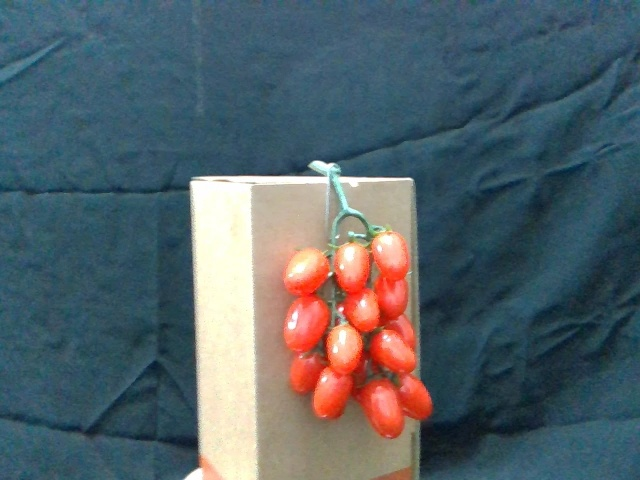tomato: (281, 296, 331, 355), (361, 377, 405, 439), (284, 250, 333, 297), (311, 370, 354, 423), (371, 228, 414, 280), (392, 371, 433, 424), (327, 322, 365, 379), (371, 329, 418, 375), (332, 239, 371, 292), (341, 290, 381, 335), (288, 352, 325, 397), (376, 275, 410, 320)
